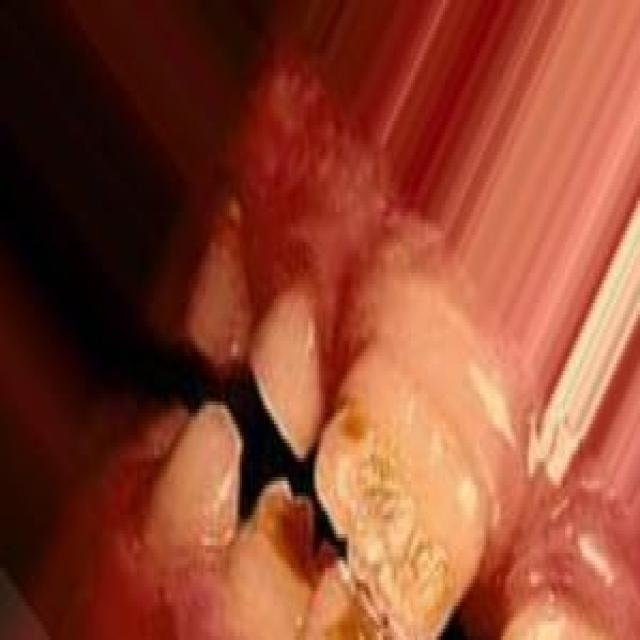caries: (314, 397, 454, 640), (256, 476, 343, 601)
